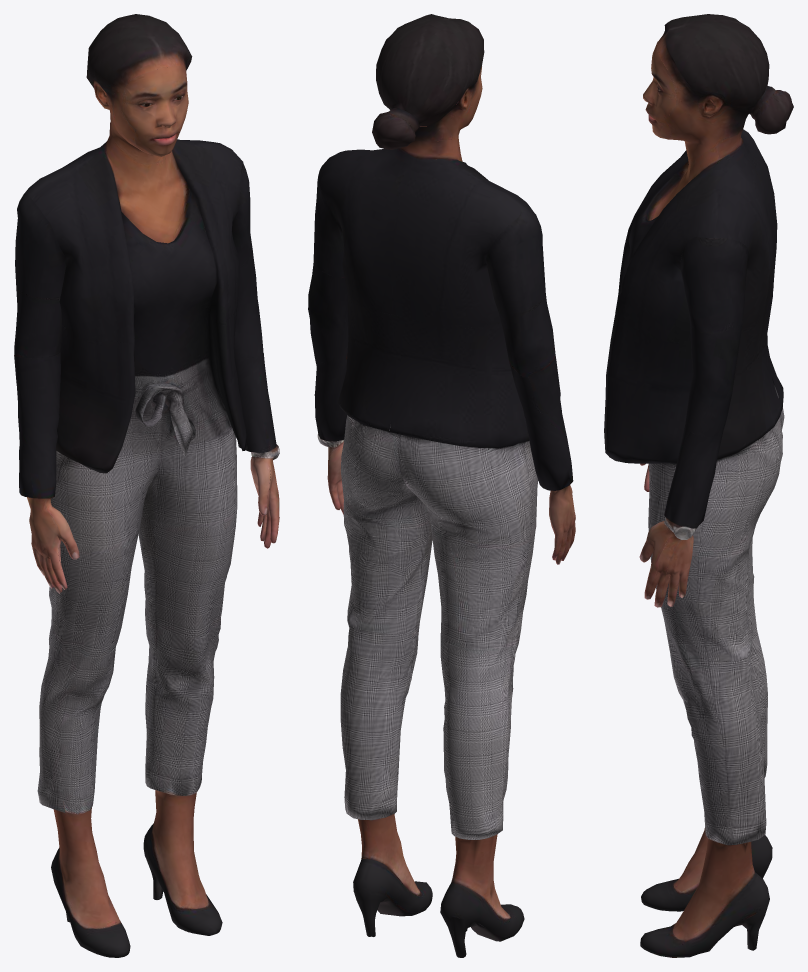
Rendered from sf_woman_office2.glb.
3 views of the same model, side by side, from view 1: azimuth 30°, elevation 25°; view 2: azimuth 150°, elevation 25°; view 3: azimuth 270°, elevation 25° (orthographic).
Parts seen in each view (by area): view 1: sf_woman_office2; view 2: sf_woman_office2; view 3: sf_woman_office2.
Boxes of the visible parts, <box> form: sf_woman_office2: <box>14,14,279,957</box>; sf_woman_office2: <box>308,14,575,957</box>; sf_woman_office2: <box>604,14,793,957</box>.
Size of the model in its own units: 0.4614 by 1.58 by 0.2985.
1 material, 1 textured.
